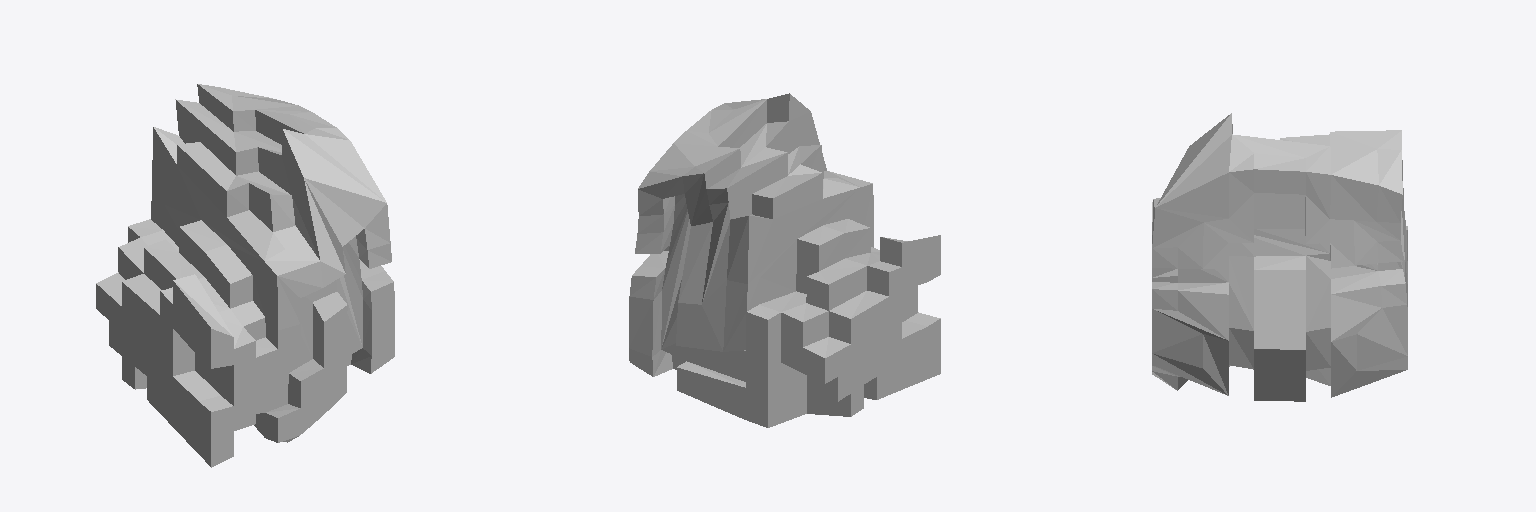
File: FlyingDroneBot_LOD0-0.obj
3 renders of one model, left to right at view 1: azimuth 30°, elevation 25°; view 2: azimuth 150°, elevation 25°; view 3: azimuth 270°, elevation 25°, orthographic.
Visible parts, largest first — view 1: FlyingDroneBot_LOD0-0; view 2: FlyingDroneBot_LOD0-0; view 3: FlyingDroneBot_LOD0-0.
Part boxes in pixels (x1,y1,x2,y2): FlyingDroneBot_LOD0-0: (96, 84, 394, 467); FlyingDroneBot_LOD0-0: (629, 93, 940, 427); FlyingDroneBot_LOD0-0: (1152, 113, 1407, 401).
Bounding box in the file's own units: 0.9787 × 1.24 × 1.